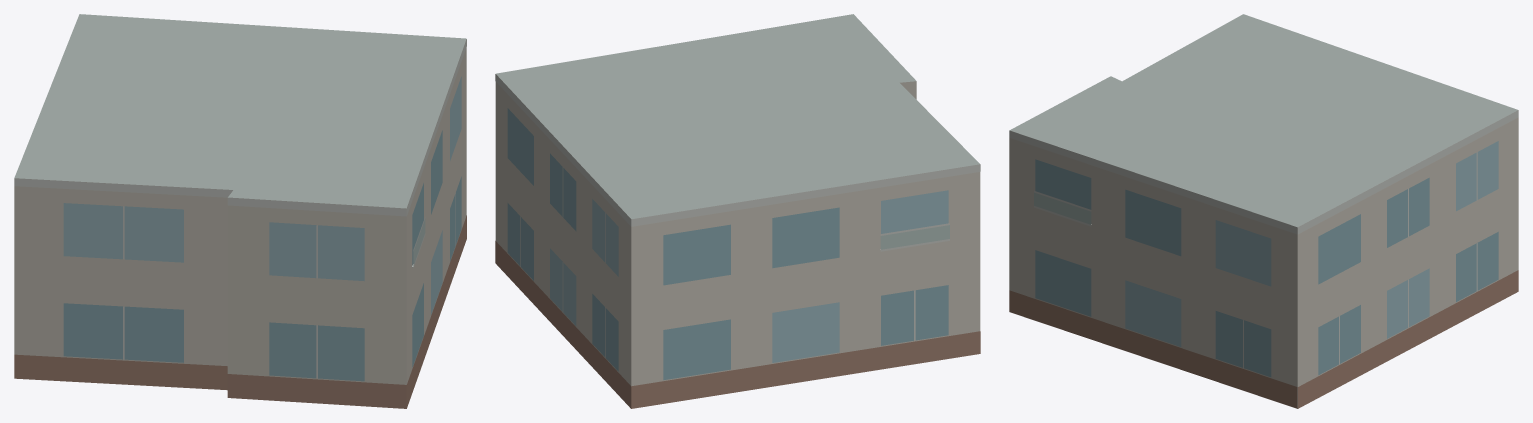
File: survey-upis-32850863.glb
The picture shows the model from 3 angles, left to right: view 1: azimuth 30°, elevation 25°; view 2: azimuth 150°, elevation 25°; view 3: azimuth 270°, elevation 25°; orthographic projection. The views are drawn at different scales.
Parts seen in each view (by area): view 1: survey-upis-32850863.tmp; view 2: survey-upis-32850863.tmp; view 3: survey-upis-32850863.tmp.
Boxes of the visible parts, <box> form: survey-upis-32850863.tmp: <box>14,14,466,408</box>; survey-upis-32850863.tmp: <box>495,14,980,408</box>; survey-upis-32850863.tmp: <box>1009,14,1518,408</box>.
Size of the model in its own units: 15.38 by 6.1 by 15.52.
